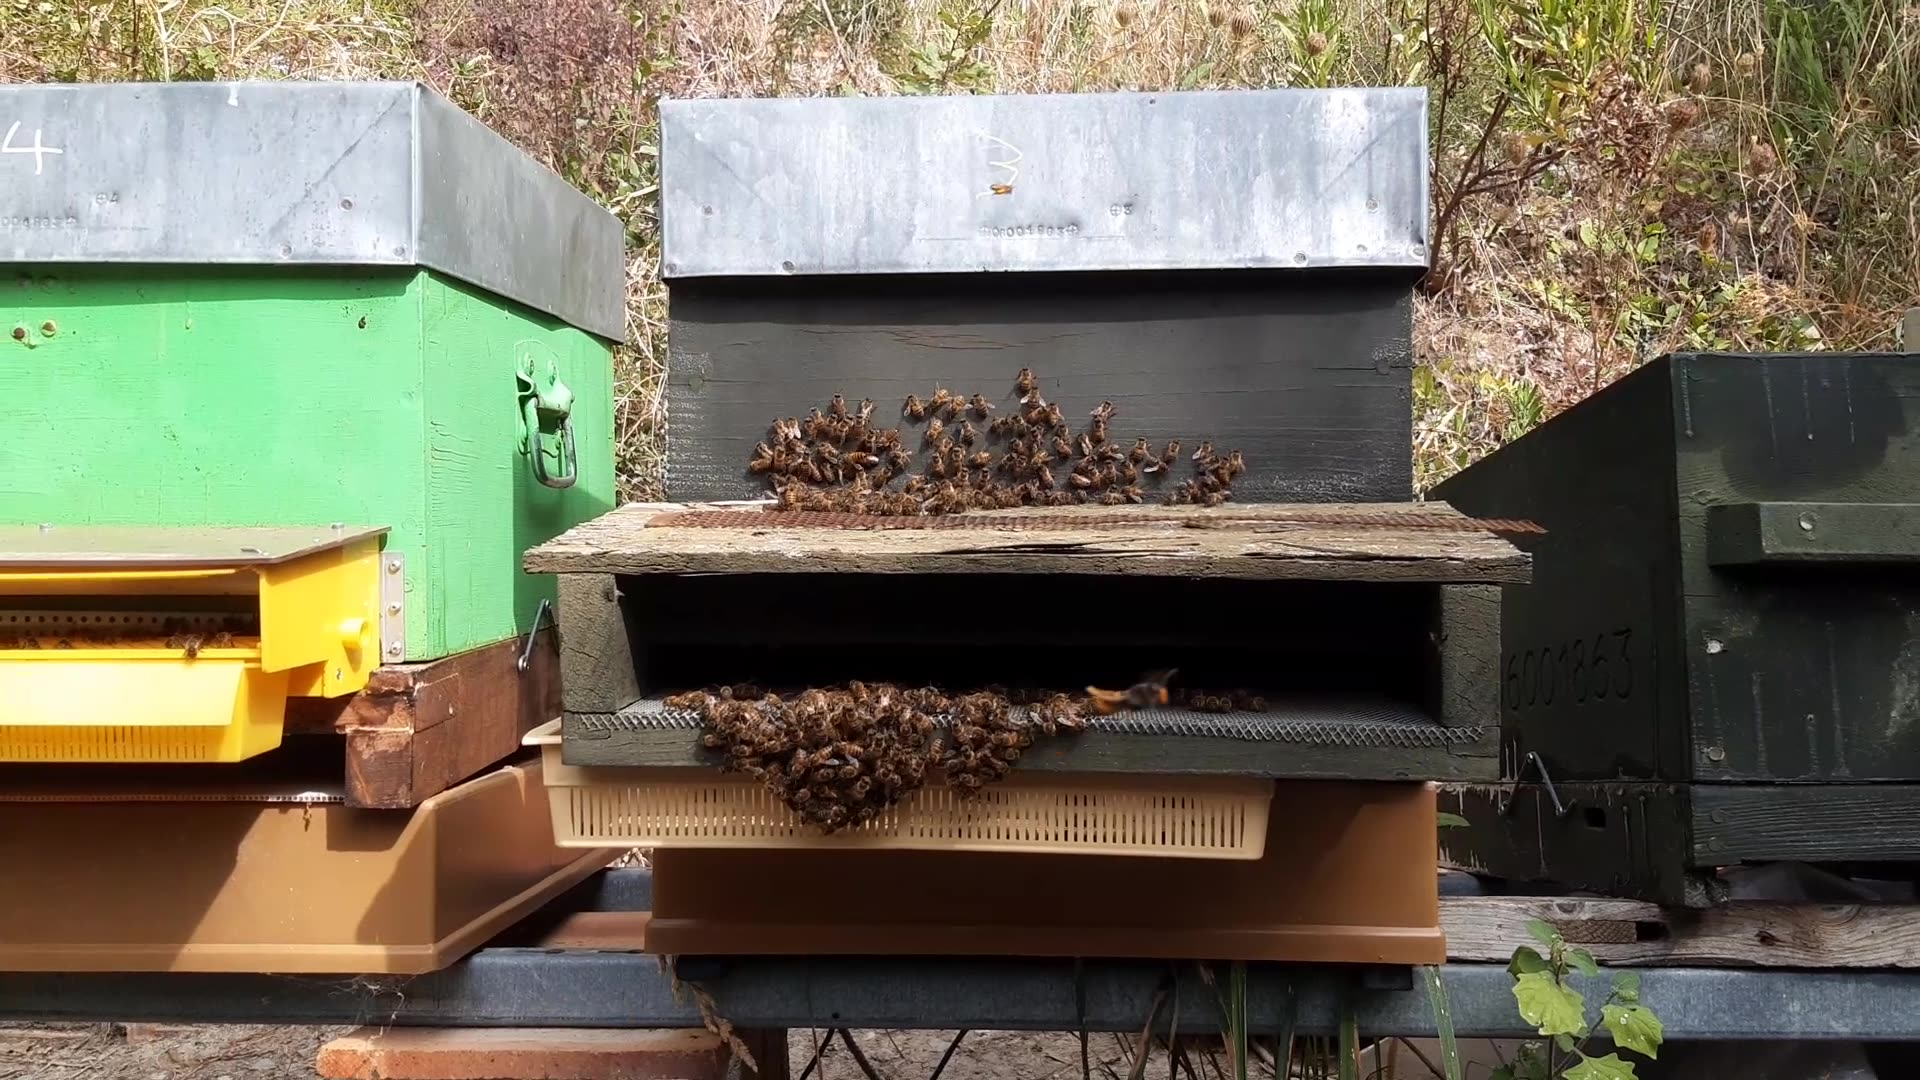bee: (731, 735, 806, 818), (669, 688, 771, 746), (928, 458, 1001, 535), (760, 766, 832, 835), (748, 448, 836, 502), (936, 752, 998, 825), (1030, 454, 1108, 512), (849, 458, 923, 518), (1160, 447, 1241, 496), (829, 674, 913, 713), (939, 388, 993, 439), (1029, 407, 1080, 459), (823, 405, 881, 447)
hornet: (1091, 663, 1185, 716)
